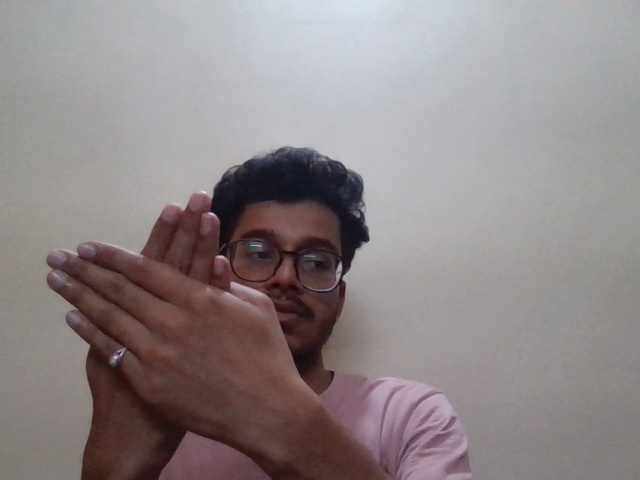what: (46, 194, 290, 423)
